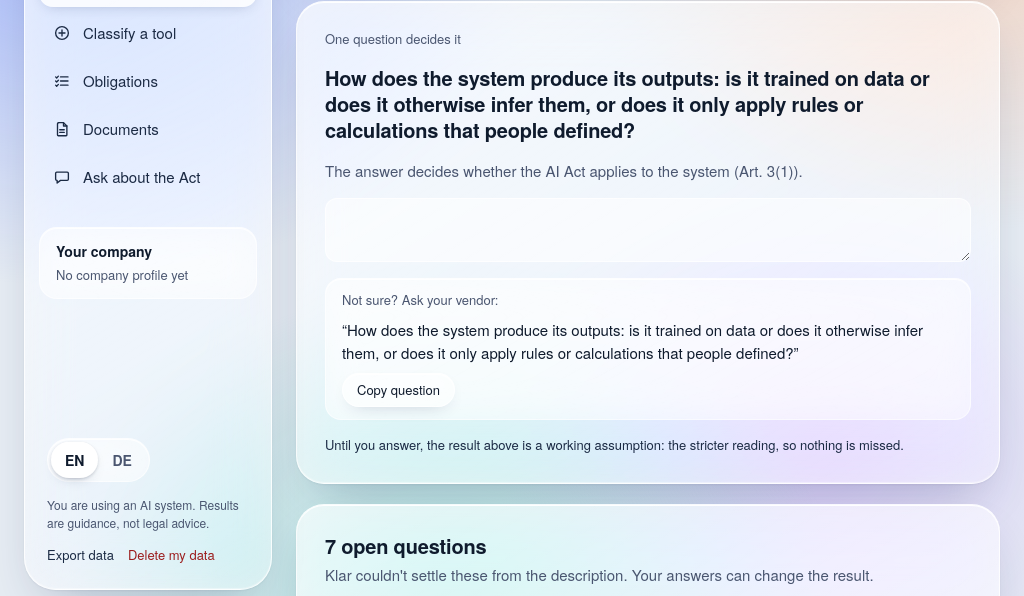
Answering the question that decides a result › sends an answer in words for a question without options
This screenshot has width=1024, height=596.
(page scrolled)
Type "  It is a model trained on past hiring data.  " into the text box named "How does the system produce its outputs: is it trained on data or does it otherwise infer them, or does it only apply ru" at [648, 230], box [325,198,971,262]
(page scrolled)
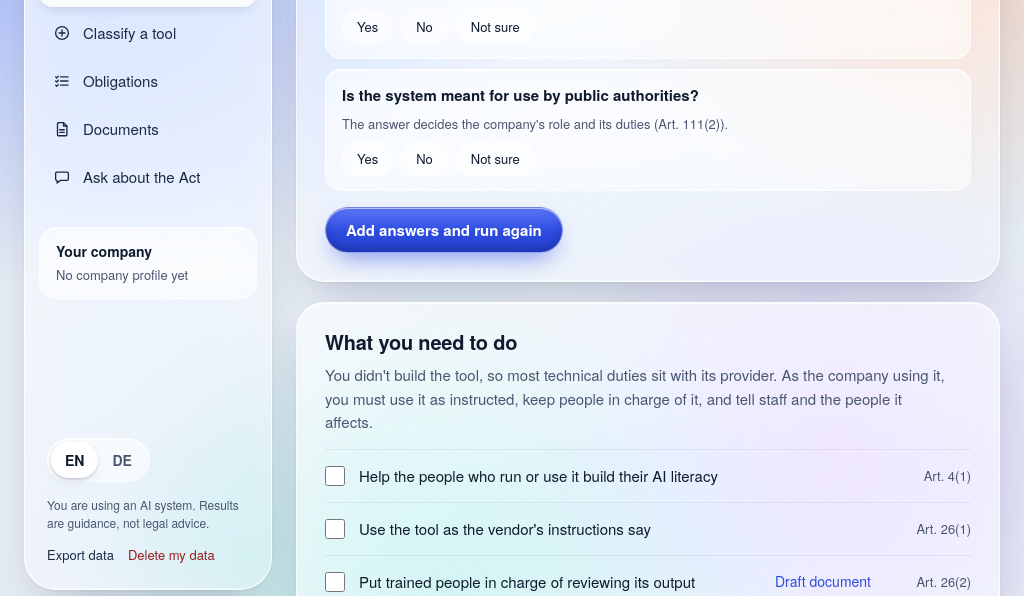
The worked example asks more questions: the one run action sits under the last panel.
Click the button "Add answers and run again" at [444, 230], box [325,207,563,253]
(page scrolled)
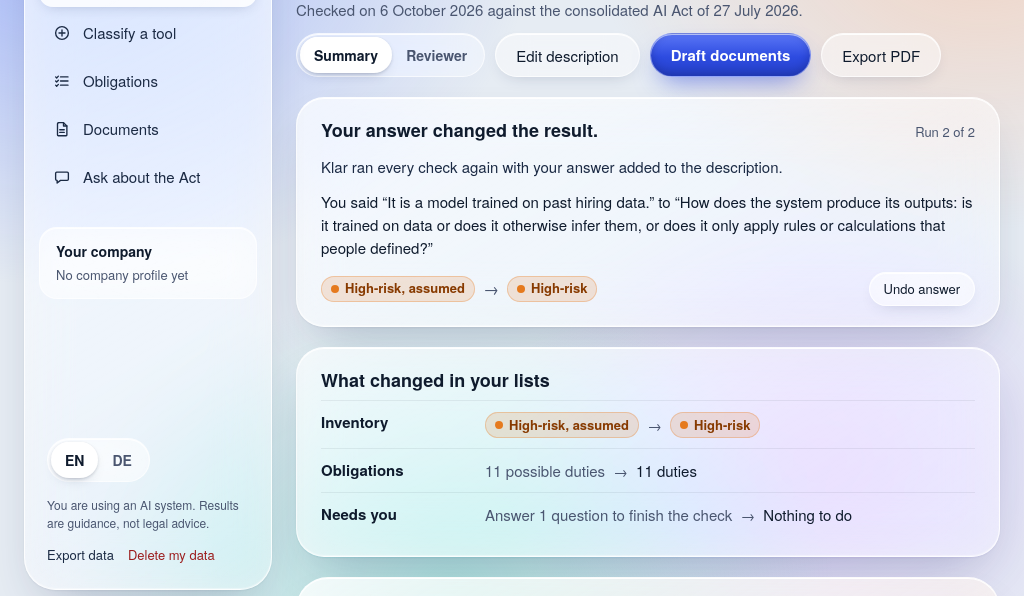
expect the element "Your answer changed the result." is shown: met, box [296,97,1000,327]
